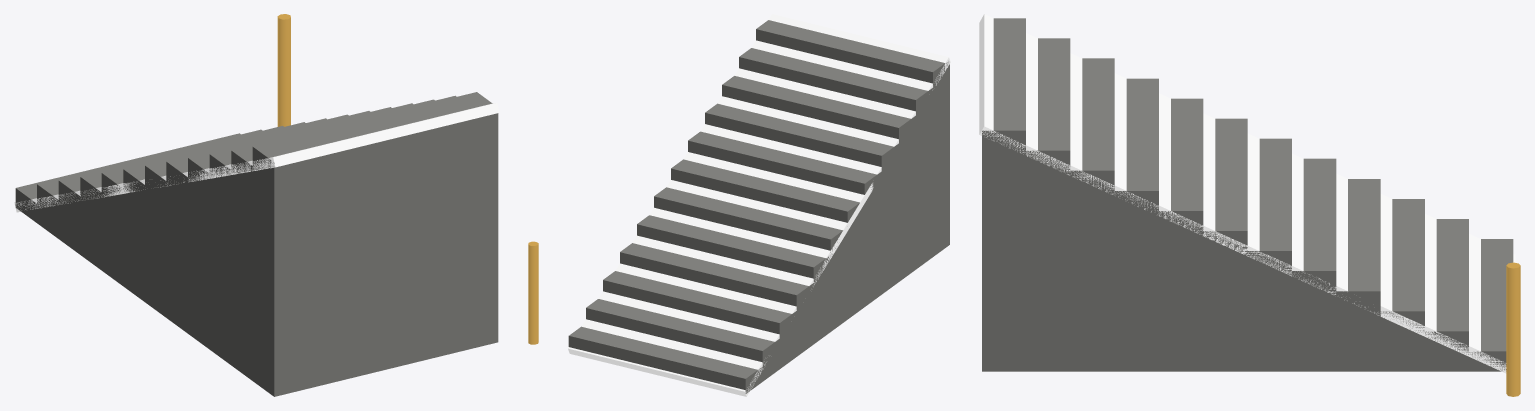
File: stair_reference_3x6.glb
The picture shows the model from 3 angles, left to right: view 1: azimuth 30°, elevation 25°; view 2: azimuth 150°, elevation 25°; view 3: azimuth 270°, elevation 25°; orthographic projection. The views are drawn at different scales.
Visible parts, largest first — view 1: MESH_step_12, MESH_step_11, MESH_step_10, MESH_step_09, COL_stair_ramp, MESH_step_08, MESH_step_07, MESH_step_06, MESH_step_05, MESH_step_04, MESH_step_03, REFERENCE_Player_1_6m (+2 smaller); view 2: COL_stair_ramp, MESH_step_12, MESH_step_11, MESH_step_10, MESH_step_09, MESH_step_08, MESH_step_07, MESH_step_06, MESH_step_05, MESH_step_04, MESH_step_03, MESH_step_02 (+2 smaller); view 3: COL_stair_ramp, MESH_step_12, MESH_step_11, MESH_step_10, MESH_step_09, MESH_step_08, MESH_step_07, MESH_step_06, MESH_step_05, MESH_step_04, MESH_step_03, MESH_step_02 (+2 smaller).
Part boxes in pixels (<box>): MESH_step_12: <box>252,92,498,396</box>; MESH_step_11: <box>231,95,456,380</box>; MESH_step_10: <box>209,99,434,364</box>; MESH_step_09: <box>188,103,413,349</box>; COL_stair_ramp: <box>14,103,499,212</box>; MESH_step_08: <box>166,107,391,333</box>; MESH_step_07: <box>145,111,370,317</box>; MESH_step_06: <box>123,114,348,301</box>; MESH_step_05: <box>101,118,326,285</box>; MESH_step_04: <box>80,122,305,270</box>; MESH_step_03: <box>58,126,283,254</box>; REFERENCE_Player_1_6m: <box>277,14,290,126</box>; COL_stair_ramp: <box>568,14,950,396</box>; MESH_step_12: <box>756,20,949,256</box>; MESH_step_11: <box>739,48,932,269</box>; MESH_step_10: <box>722,76,915,281</box>; MESH_step_09: <box>705,103,898,294</box>; MESH_step_08: <box>688,131,881,306</box>; MESH_step_07: <box>671,159,864,319</box>; MESH_step_06: <box>654,187,847,331</box>; MESH_step_05: <box>637,215,830,343</box>; MESH_step_04: <box>620,243,813,356</box>; MESH_step_03: <box>603,271,796,368</box>; MESH_step_02: <box>586,299,779,381</box>; COL_stair_ramp: <box>979,14,1515,373</box>; MESH_step_12: <box>982,18,1025,371</box>; MESH_step_11: <box>1026,38,1070,371</box>; MESH_step_10: <box>1070,58,1114,371</box>; MESH_step_09: <box>1114,78,1158,371</box>; MESH_step_08: <box>1159,98,1203,371</box>; MESH_step_07: <box>1203,118,1247,371</box>; MESH_step_06: <box>1247,138,1291,371</box>; MESH_step_05: <box>1292,158,1336,371</box>; MESH_step_04: <box>1336,179,1380,371</box>; MESH_step_03: <box>1380,199,1424,371</box>; MESH_step_02: <box>1425,219,1468,371</box>.
Bounding box in the file's own units: 3.68 × 3.11 × 6.11.
